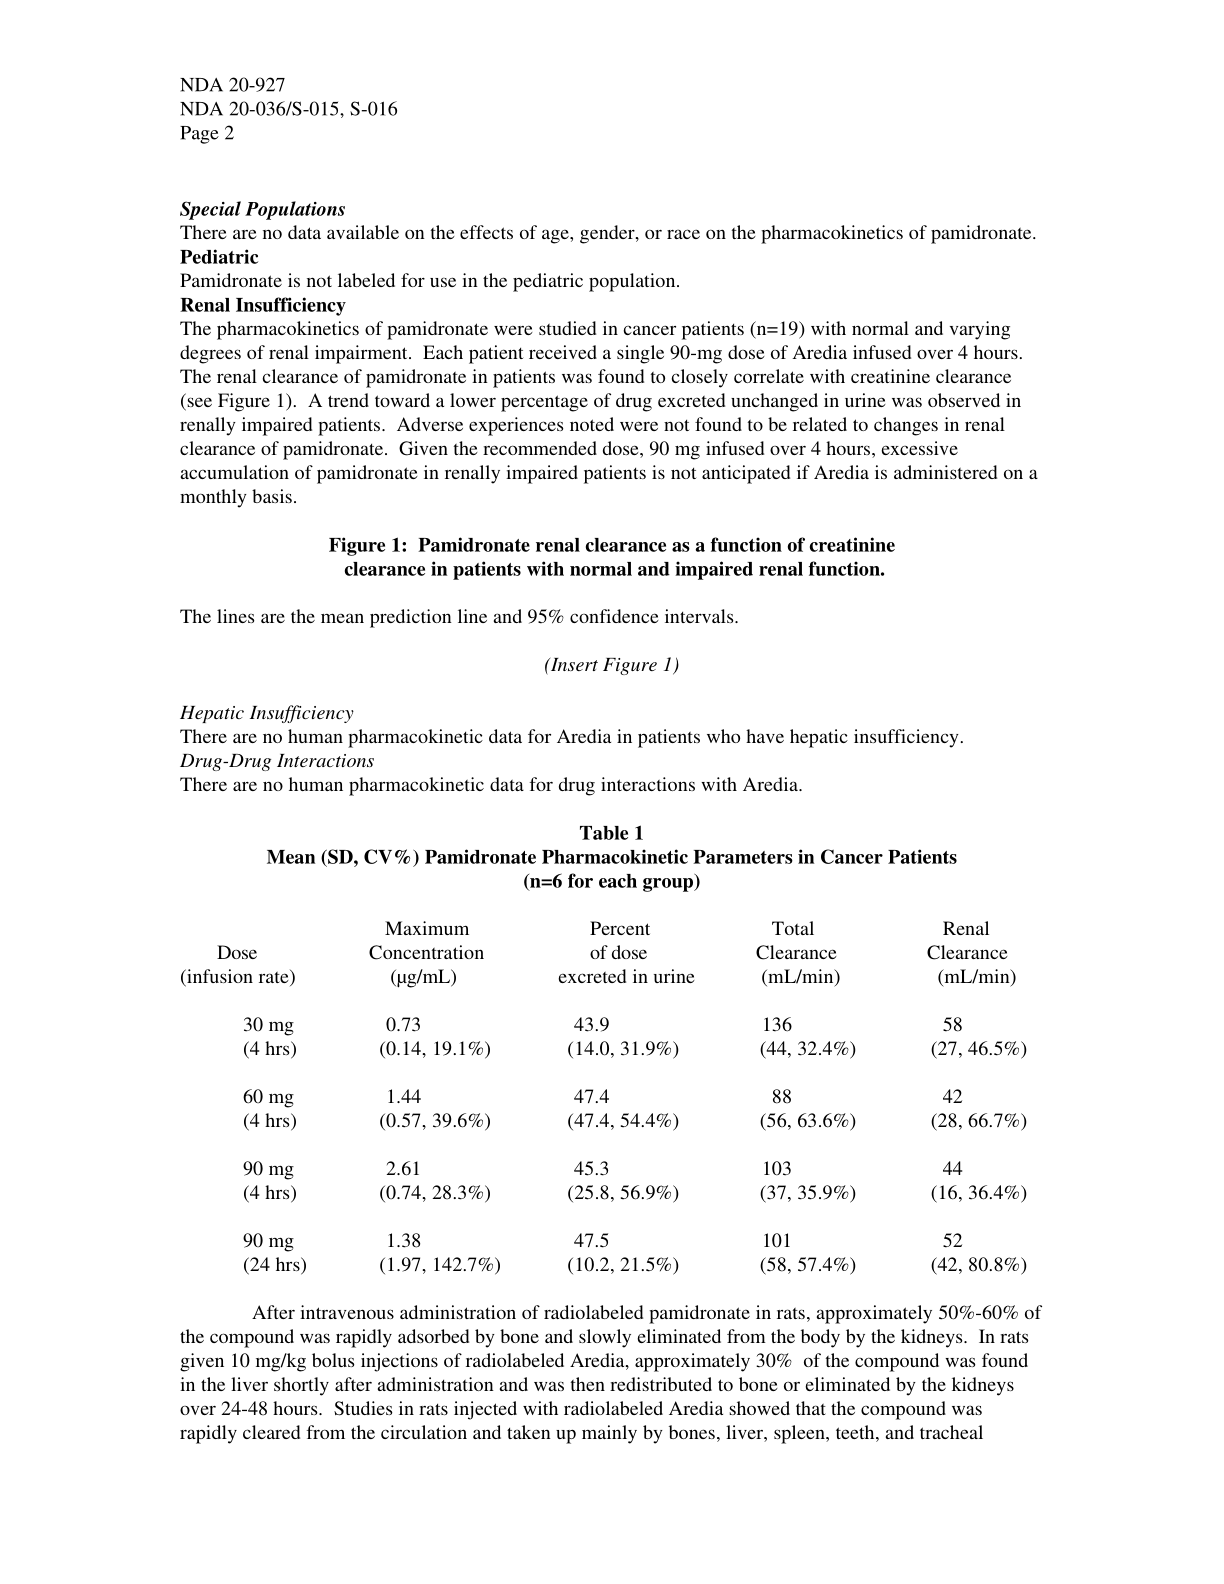nolines: (177, 915, 1034, 1284)
